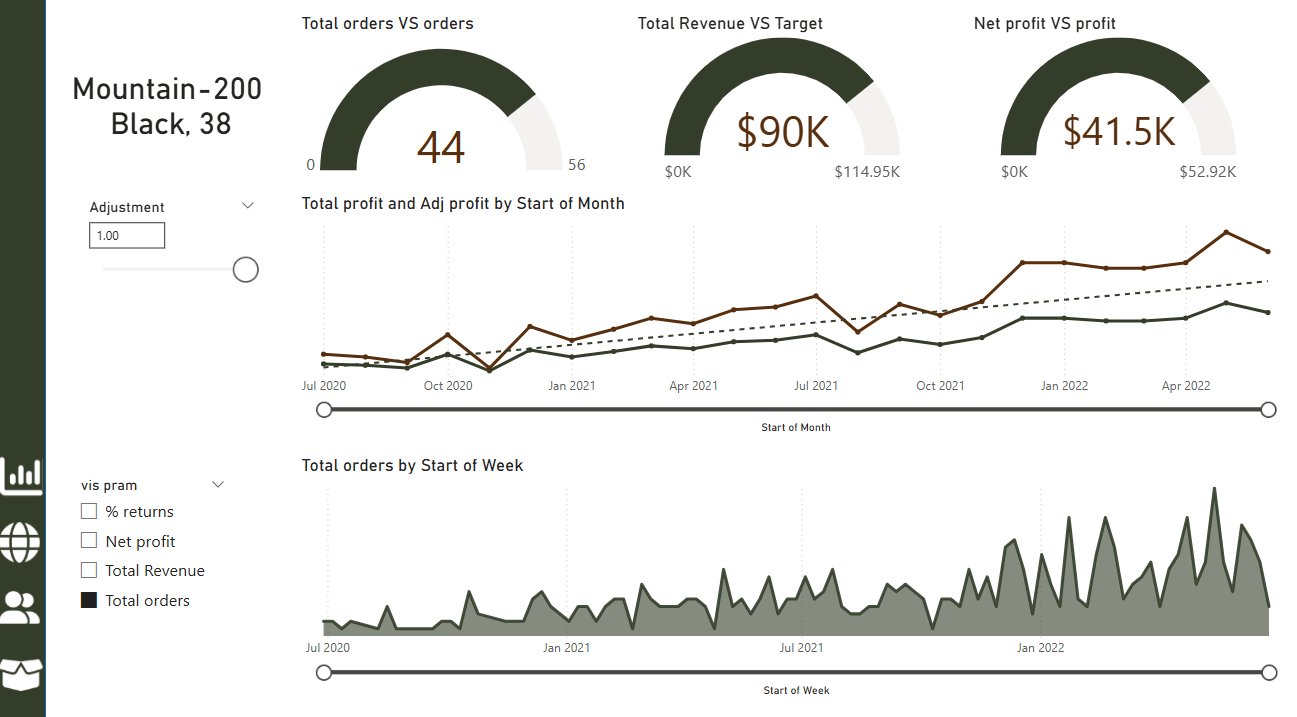

What the dashboard file says about the page in this screenshot:
{"tool":"powerbi","page":{"name":"Product Dashboard","canvas":[1280,720],"ordinal":3},"visuals":[{"type":"shape","box":[0,0,50,720],"z":0},{"type":"gauge","title":"Total orders VS orders","fields":{"Y":["Dax Measures.Total orders"],"MaxValue":["Dax Measures.target of orders"]},"box":[295.7,20,294.3,175.7],"z":1000},{"type":"lineChart","fields":{"Y":["Dax Measures.Net profit","Dax Measures.Adj profit"],"Category":["Calendar Lookup.Start of Year Hierarchy.Start of Year","Calendar Lookup.Start of Year Hierarchy.Start of Month","Calendar Lookup.Start of Year Hierarchy.Start of Week","Calendar Lookup.Start of Year Hierarchy.Date"]},"box":[295.7,196.3,984.1,240.5],"z":2000},{"type":"areaChart","fields":{"Y":["Dax Measures.Total orders"],"Category":["Calendar Lookup.Start of Year Hierarchy.Start of Year","Calendar Lookup.Start of Year Hierarchy.Start of Month","Calendar Lookup.Start of Year Hierarchy.Start of Week","Calendar Lookup.Start of Year Hierarchy.Date"]},"box":[295.7,452.8,984.1,241.7],"z":3000},{"type":"gauge","title":"Total Revenue VS Target ","fields":{"Y":["Dax Measures.Total Revenue"],"MaxValue":["Dax Measures.Target month of revenue"]},"box":[625.7,19.9,294.4,176.4],"z":4000},{"type":"gauge","title":"Net profit VS profit","fields":{"Y":["Dax Measures.Net profit"],"MaxValue":["Dax Measures.target of profit"]},"box":[955.7,19.9,294.4,176.4],"z":5000},{"type":"actionButton","box":[0,448.9,81.4,50.9],"z":6000},{"type":"actionButton","box":[0,515.4,111.9,47.9],"z":7000},{"type":"actionButton","box":[0,579.5,111.9,47.9],"z":8000},{"type":"actionButton","box":[0,643.6,111.9,50.9],"z":9000},{"type":"card","fields":{"Values":["Min(Product Lookup.ProductName)"]},"box":[50.3,0,245.4,216],"z":10000},{"type":"slicer","fields":{"Values":["vis pram.vis pram"]},"box":[71.2,469.9,166.9,187.7],"z":11000},{"type":"slicer","fields":{"Values":["Adjustment.Adjustment"]},"box":[79.9,196.1,187.4,177.3],"z":12000}]}

Visuals, with their boxes on the page's 1280x720 design canvas (x1, y1, x2, y2). These are canvas units, not pixel positions in the 1297x717 screenshot, which may show the page scaled, cropped or inside an application window:
shape: [x1=0, y1=0, x2=50, y2=720]
"Total orders VS orders" gauge: [x1=296, y1=20, x2=590, y2=196]
lineChart - Dax Measures.Net profit x Dax Measures.Adj profit: [x1=296, y1=196, x2=1280, y2=437]
areaChart - Dax Measures.Total orders x Calendar Lookup.Start of Year Hierarchy.Start of Year: [x1=296, y1=453, x2=1280, y2=694]
"Total Revenue VS Target " gauge: [x1=626, y1=20, x2=920, y2=196]
"Net profit VS profit" gauge: [x1=956, y1=20, x2=1250, y2=196]
actionButton: [x1=0, y1=449, x2=81, y2=500]
actionButton: [x1=0, y1=515, x2=112, y2=563]
actionButton: [x1=0, y1=580, x2=112, y2=627]
actionButton: [x1=0, y1=644, x2=112, y2=694]
card - Min(Product Lookup.ProductName): [x1=50, y1=0, x2=296, y2=216]
slicer - vis pram.vis pram: [x1=71, y1=470, x2=238, y2=658]
slicer - Adjustment.Adjustment: [x1=80, y1=196, x2=267, y2=373]
